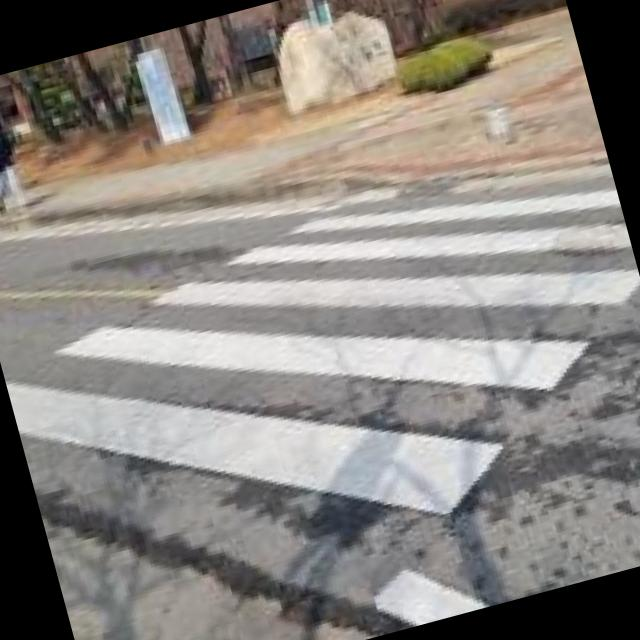zebra: (1, 154, 628, 640)
